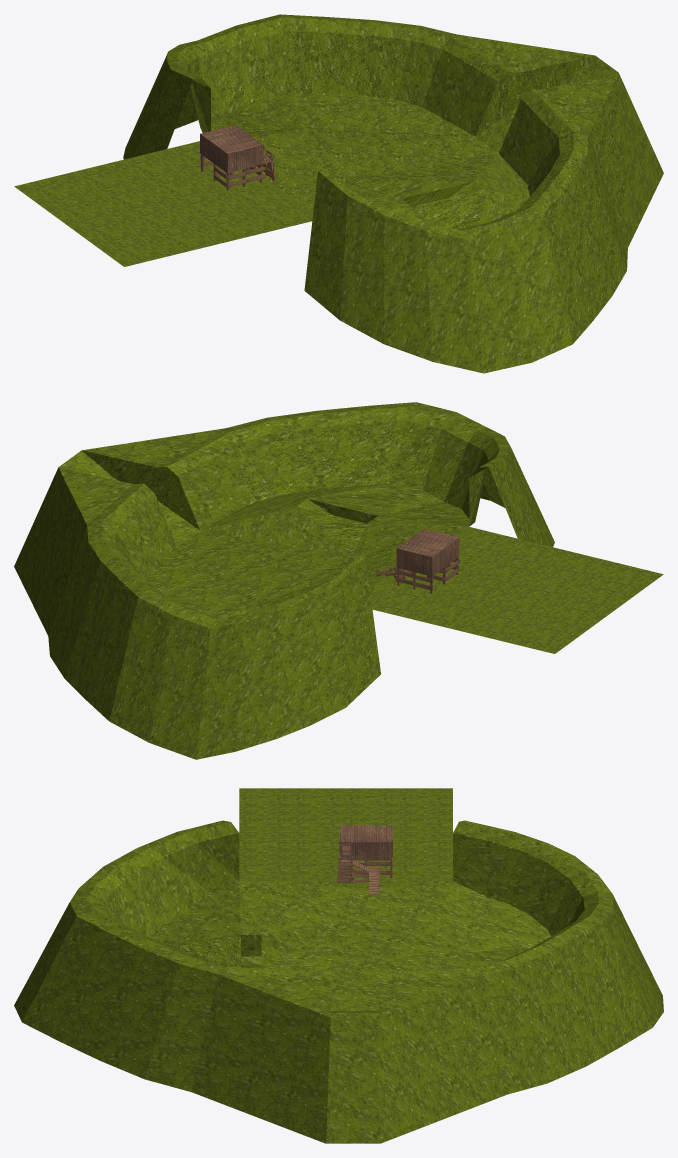
File: castello.obj
3 renders of one model, top to bottom at view 1: azimuth 30°, elevation 25°; view 2: azimuth 150°, elevation 25°; view 3: azimuth 270°, elevation 25°, orthographic. The views are drawn at different scales.
Parts seen in each view (by area): view 1: Grounde.002_Plane.014, Cube, Cube.004; view 2: Grounde.002_Plane.014, Cube, Cube.004; view 3: Grounde.002_Plane.014, Cube, Cube.002.
Boxes of the visible parts, bbox=[...] form: Grounde.002_Plane.014: bbox=[14, 14, 663, 373]; Cube: bbox=[200, 125, 264, 173]; Cube.004: bbox=[200, 154, 264, 190]; Grounde.002_Plane.014: bbox=[14, 402, 663, 759]; Cube: bbox=[396, 528, 459, 576]; Cube.004: bbox=[395, 557, 459, 593]; Grounde.002_Plane.014: bbox=[14, 788, 663, 1143]; Cube: bbox=[339, 825, 392, 860]; Cube.002: bbox=[337, 859, 380, 893].
Size of the model in its own units: 97.95 by 23.78 by 97.29.
